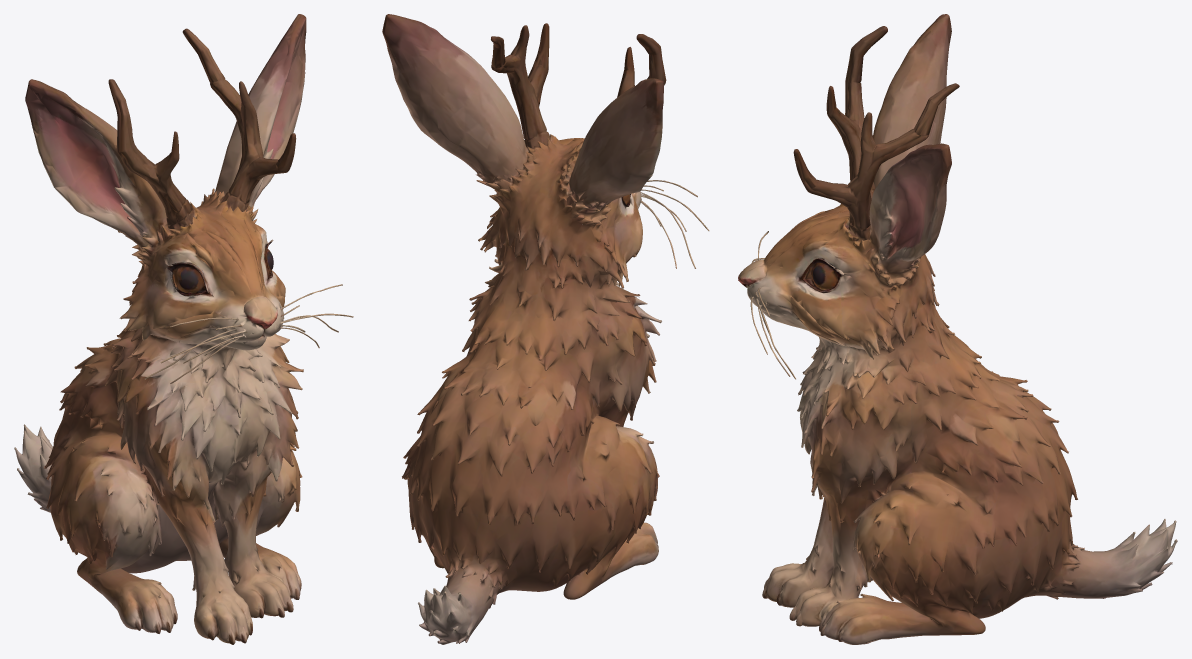
File: figurine-jackalope.glb
The picture shows the model from 3 angles, left to right: view 1: azimuth 30°, elevation 25°; view 2: azimuth 150°, elevation 25°; view 3: azimuth 270°, elevation 25°; orthographic projection.
Parts seen in each view (by area): view 1: tripo_node_4bb83483-19f2-449f-b402-ad4d827bc041; view 2: tripo_node_4bb83483-19f2-449f-b402-ad4d827bc041; view 3: tripo_node_4bb83483-19f2-449f-b402-ad4d827bc041.
Boxes of the visible parts, box(x1,y1,x2,y2) form: tripo_node_4bb83483-19f2-449f-b402-ad4d827bc041: box(14, 14, 353, 644); tripo_node_4bb83483-19f2-449f-b402-ad4d827bc041: box(382, 14, 709, 644); tripo_node_4bb83483-19f2-449f-b402-ad4d827bc041: box(738, 14, 1177, 644).
Bounding box in the file's own units: 0.5336 × 0.9796 × 0.7261.
1 material, 1 textured.
